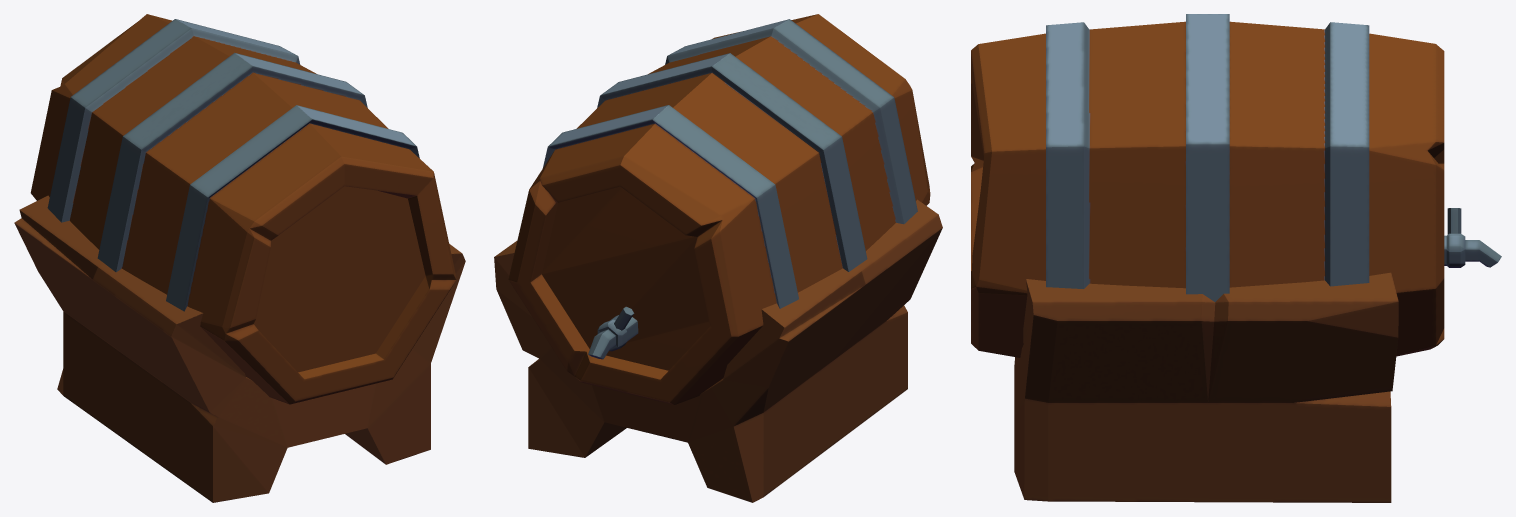
The model's file is Caseta07.fbx.
The picture shows the model from 3 angles, left to right: view 1: azimuth 30°, elevation 25°; view 2: azimuth 150°, elevation 25°; view 3: azimuth 270°, elevation 25°; orthographic projection. The views are drawn at different scales.
Parts seen in each view (by area): view 1: barrel01; view 2: barrel01; view 3: barrel01.
Part boxes in pixels (x1,y1,x2,y2): barrel01: (14, 14, 465, 502); barrel01: (494, 14, 942, 502); barrel01: (971, 14, 1501, 502).
Size of the model in its own units: 2.68 by 3.08 by 3.5.
Materials: 1 (1 with a texture image).
